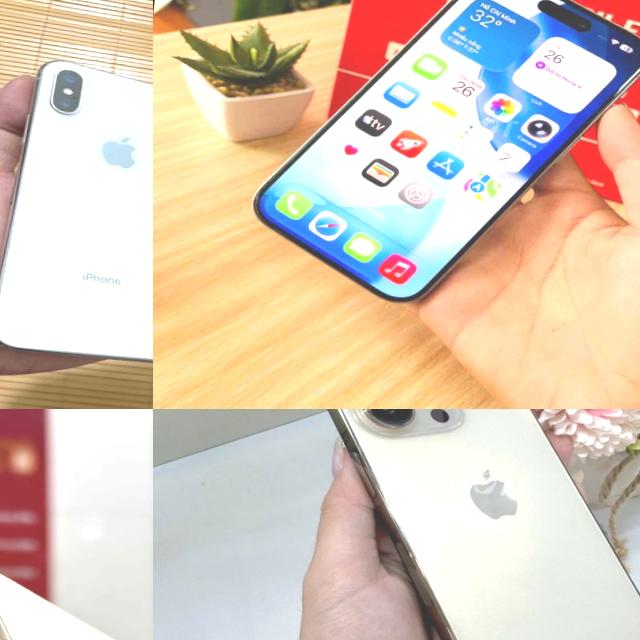gen_12_13: (0, 555, 153, 640)
gen_14: (264, 409, 640, 640)
gen_15: (244, 0, 640, 325)
gen_x_xs: (0, 60, 153, 360)
